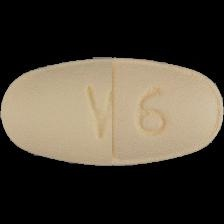0143-9580: (0, 0, 224, 224)
